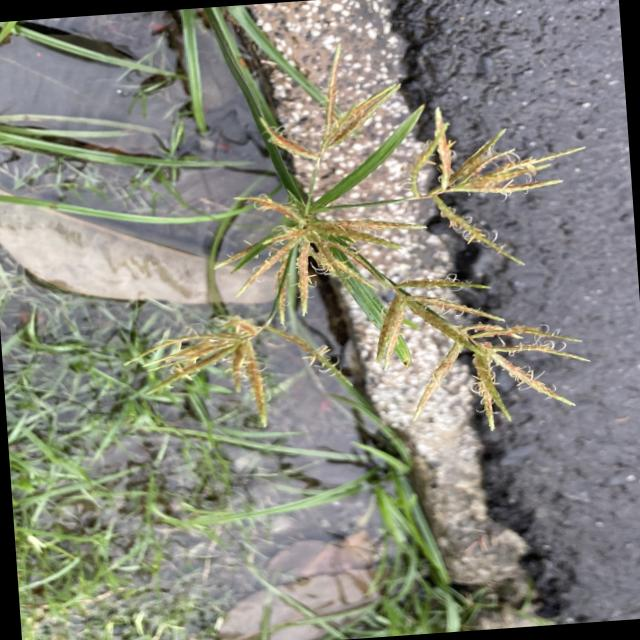cyperus: (86, 19, 609, 461)
